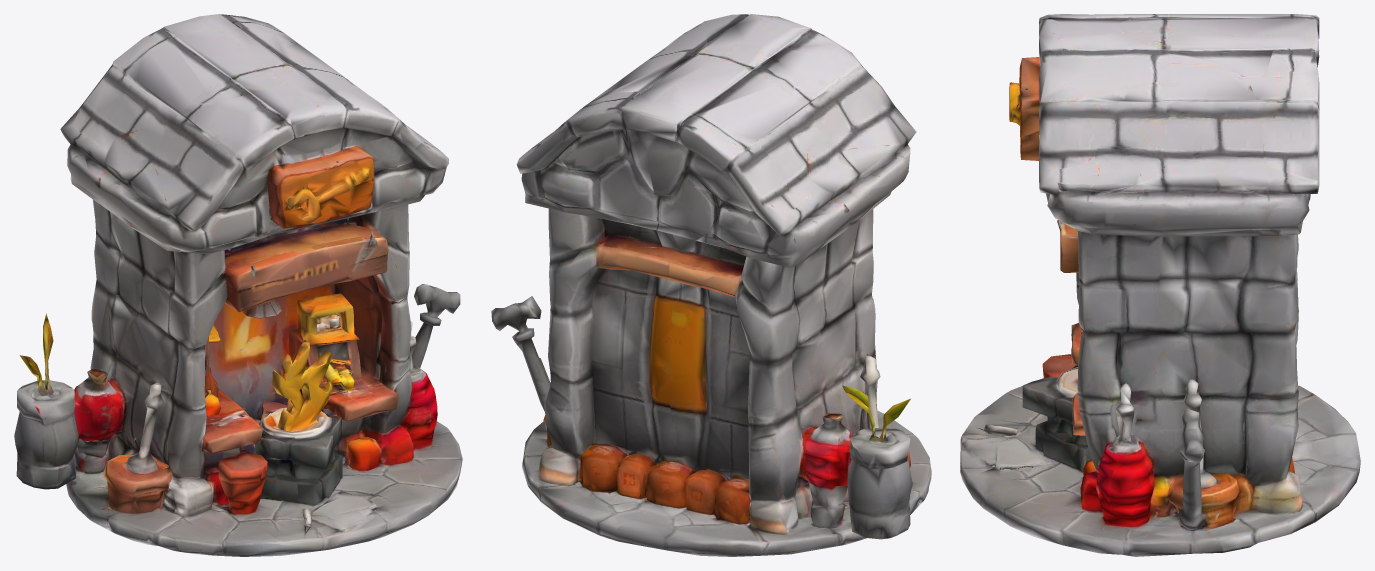
The model's file is upgrades.glb.
3 renders of one model, left to right at view 1: azimuth 30°, elevation 25°; view 2: azimuth 150°, elevation 25°; view 3: azimuth 270°, elevation 25°, orthographic. The views are drawn at different scales.
Size of the model in its own units: 1.9 by 1.74 by 1.45.
Materials: 1 (1 with a texture image).
